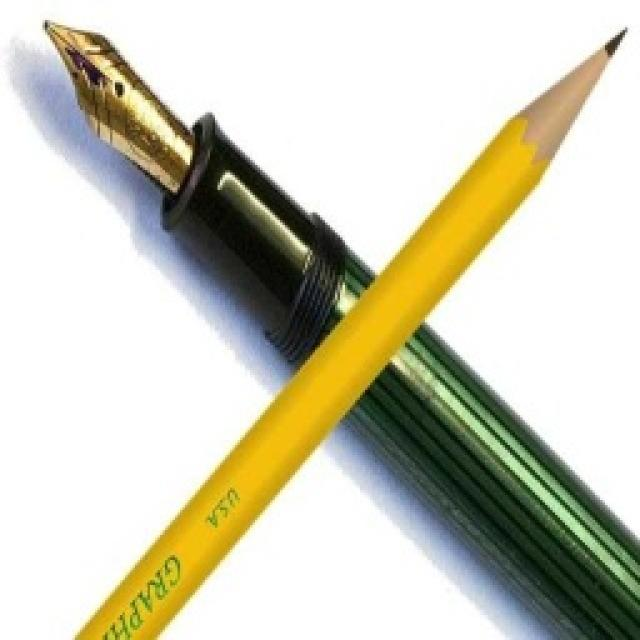pencil: (30, 12, 638, 638)
